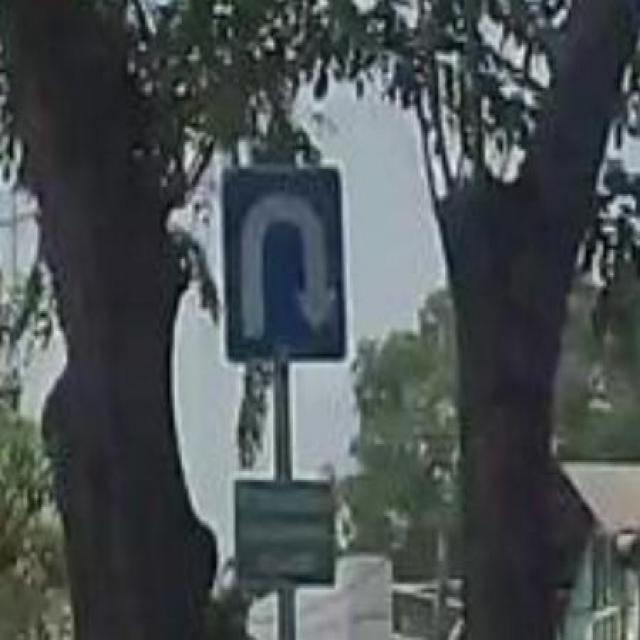traffic sign: (219, 162, 350, 365)
